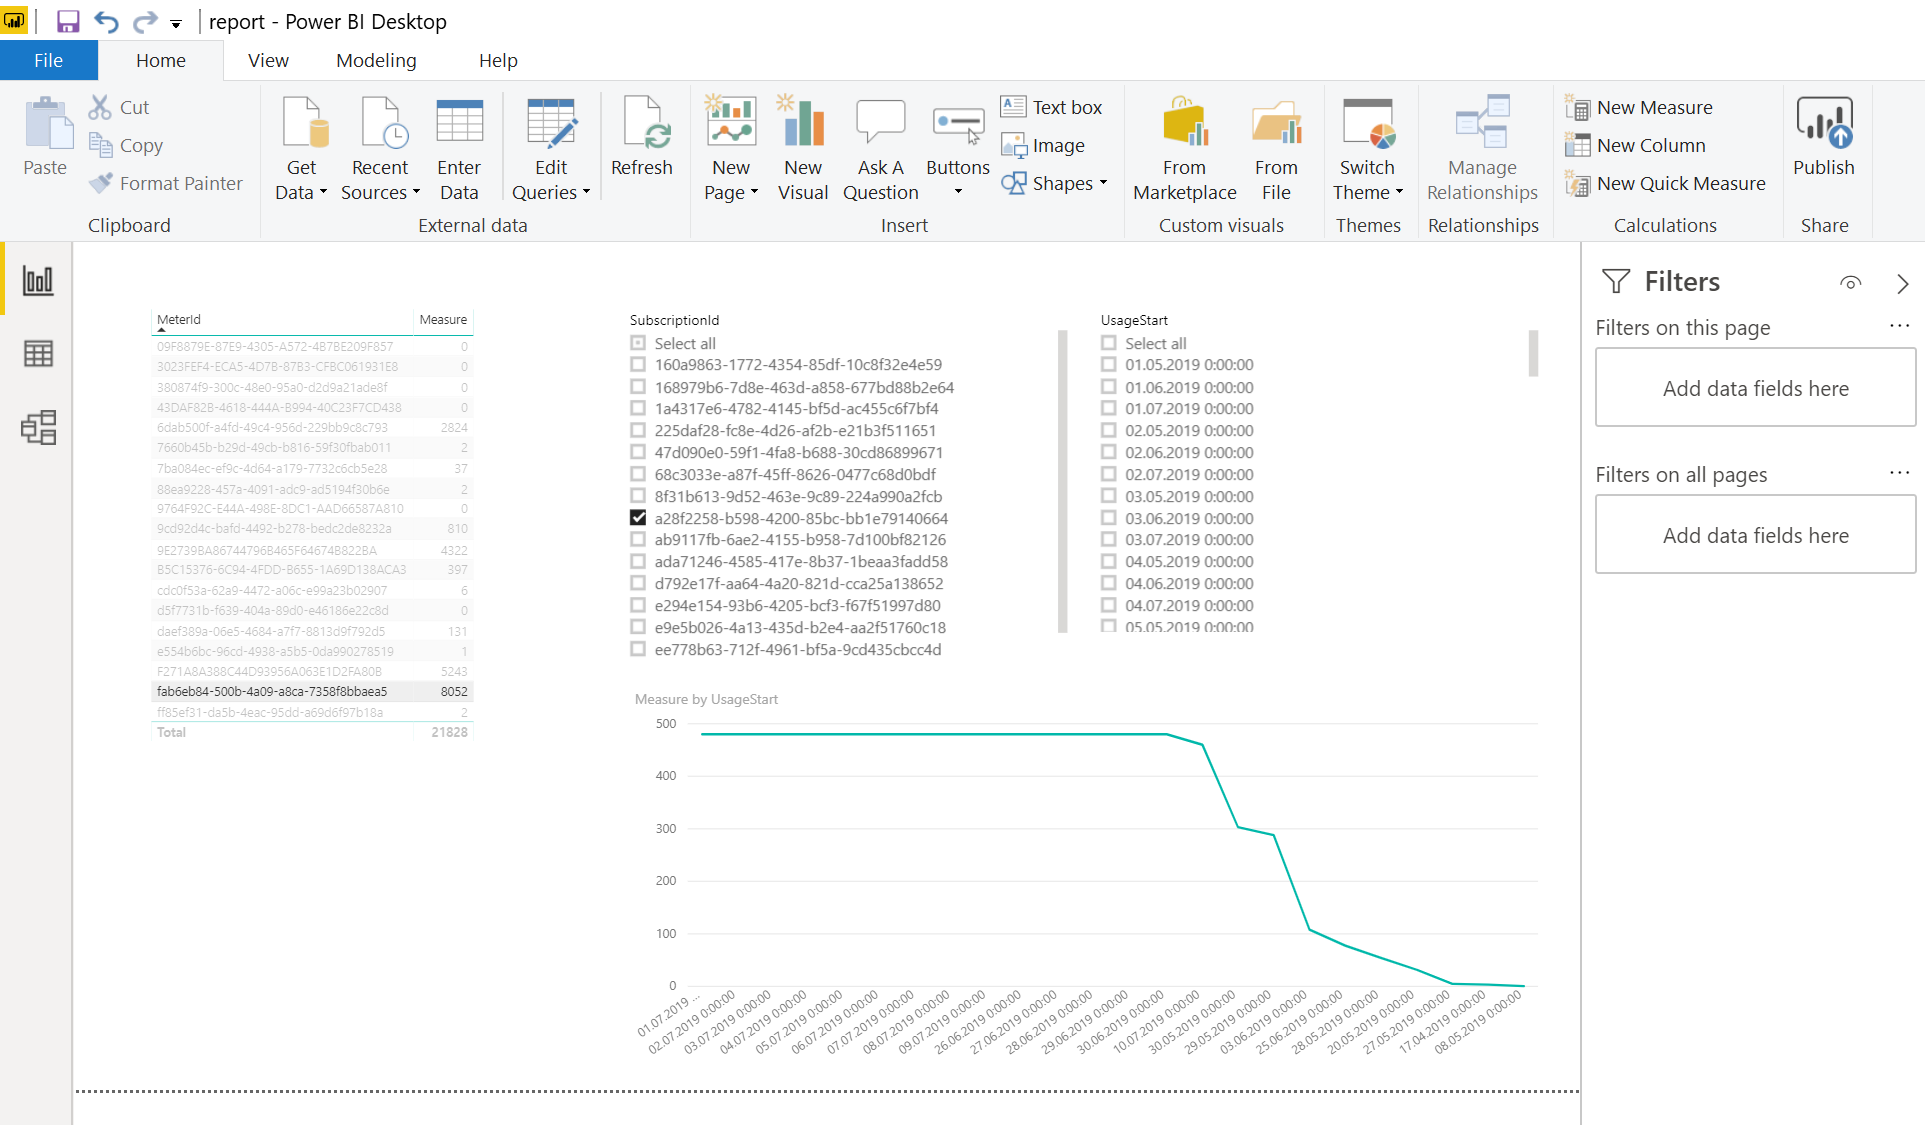

What the dashboard file says about the page in this screenshot:
{"tool":"powerbi","page":{"name":"Page 1","canvas":[1280,720],"ordinal":0},"visuals":[{"type":"tableEx","fields":{"Values":["AzureStackUsage.MeterId","AzureStackUsage.Measure"]},"box":[59.5,52,389.5,654.1],"z":0},{"type":"lineChart","fields":{"Y":["AzureStackUsage.Measure"],"Category":["AzureStackUsage.UsageStart"]},"box":[471.3,379.1,777.5,327.1],"z":4},{"type":"slicer","fields":{"Values":["AzureStackUsage.SubscriptionId"]},"box":[459.4,52,389.5,307.7],"z":1000},{"type":"slicer","fields":{"Values":["AzureStackUsage.UsageStart"]},"box":[859.3,52,389.5,283.9],"z":2000}]}

Visuals, with their boxes on the page's 1280x720 design canvas (x1, y1, x2, y2). These are canvas units, not pixel positions in the 1925x1125 screenshot, which may show the page scaled, cropped or inside an application window:
tableEx - AzureStackUsage.MeterId x AzureStackUsage.Measure: (60, 52, 449, 706)
lineChart - AzureStackUsage.Measure x AzureStackUsage.UsageStart: (471, 379, 1249, 706)
slicer - AzureStackUsage.SubscriptionId: (459, 52, 849, 360)
slicer - AzureStackUsage.UsageStart: (859, 52, 1249, 336)
